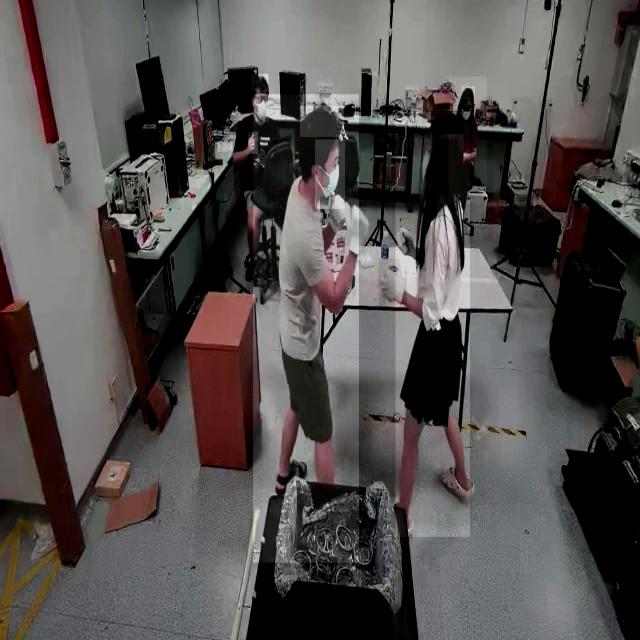face_mask: (315, 139, 345, 209), (255, 94, 269, 122), (460, 105, 474, 124)
hand_glove: (341, 204, 366, 263), (378, 258, 407, 306)
hand_noglove: (247, 132, 258, 154)
head_nohelmet: (300, 106, 344, 138), (431, 111, 464, 135), (252, 74, 268, 92), (461, 86, 475, 100)
person: (253, 94, 359, 564), (395, 112, 470, 538), (228, 76, 300, 264), (449, 76, 487, 205)
